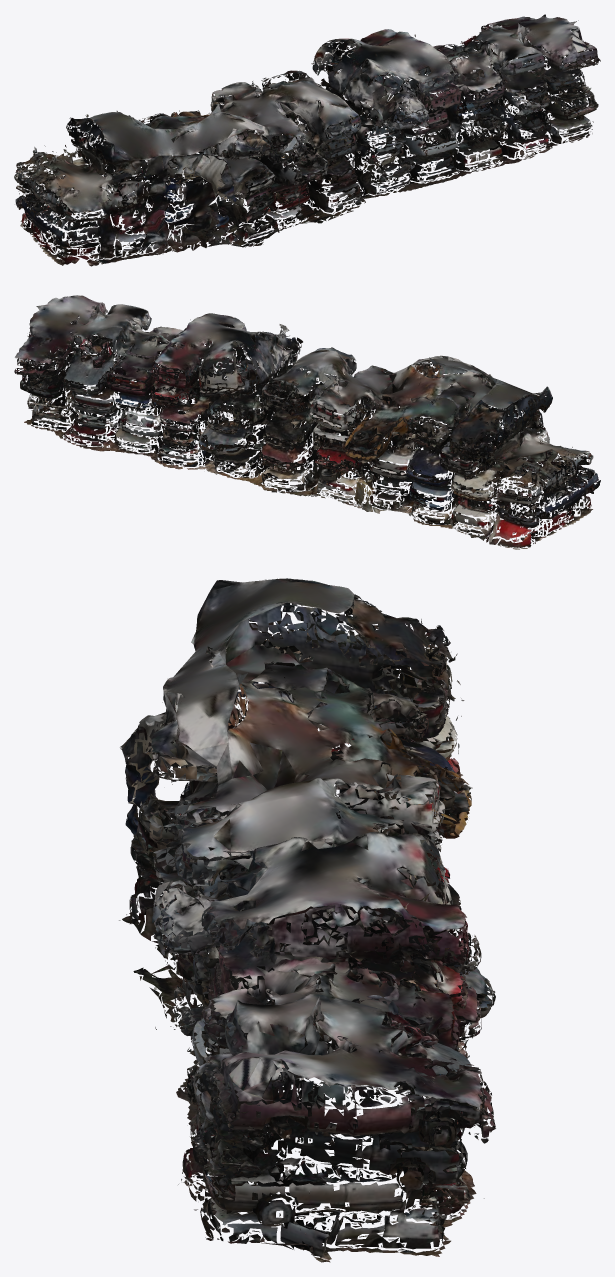
Rendered from muro_carros.glb.
3 views of the same model, one above another, from view 1: azimuth 30°, elevation 25°; view 2: azimuth 150°, elevation 25°; view 3: azimuth 270°, elevation 25° (orthographic). The views are drawn at different scales.
Parts seen in each view (by area): view 1: muro_carros; view 2: muro_carros; view 3: muro_carros.
Boxes of the visible parts, x1,y1,x2,y2 form: muro_carros: (14,14,600,266); muro_carros: (14,295,600,549); muro_carros: (119,578,495,1262).
Bounding box in the file's own units: 35.17 × 7.7 × 10.67.
Materials: 1 (1 with a texture image).
